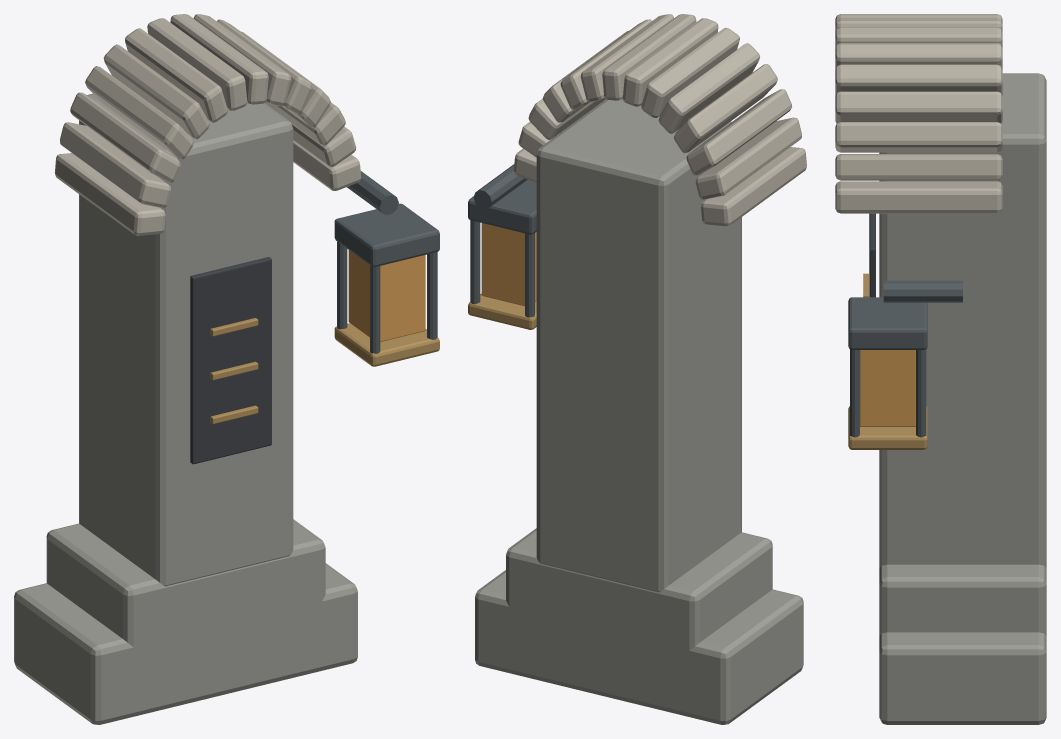
The model's file is road_shrine.glb.
The picture shows the model from 3 angles, left to right: view 1: azimuth 30°, elevation 25°; view 2: azimuth 150°, elevation 25°; view 3: azimuth 270°, elevation 25°; orthographic projection. The views are drawn at different scales.
Parts seen in each view (by area): view 1: Body.081; view 2: Body.081; view 3: Body.081.
Part boxes in pixels (box(x1,y1,x2,y2)): Body.081: box(14, 14, 439, 724); Body.081: box(468, 14, 806, 724); Body.081: box(835, 14, 1046, 724).
Bounding box in the file's own units: 0.87 × 1.6 × 0.48.
